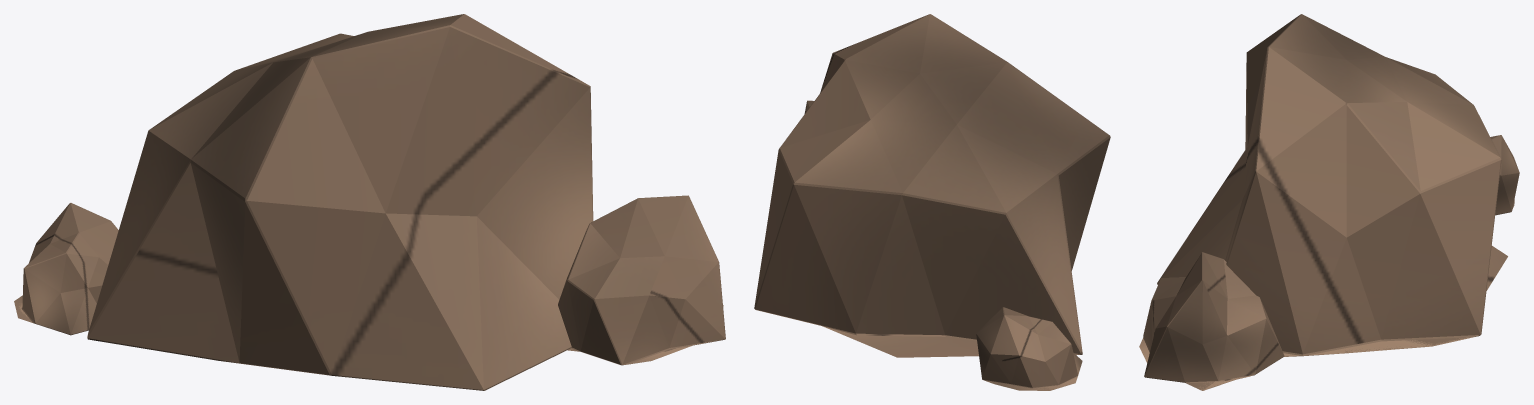
Rendered from ENV_Rock_A_v1.fbx.
The picture shows the model from 3 angles, left to right: view 1: azimuth 30°, elevation 25°; view 2: azimuth 150°, elevation 25°; view 3: azimuth 270°, elevation 25°; orthographic projection. The views are drawn at different scales.
Visible parts, largest first — view 1: GEO_Rock_A; view 2: GEO_Rock_A; view 3: GEO_Rock_A.
Boxes of the visible parts, box(x1,y1,x2,y2) form: GEO_Rock_A: box(14, 14, 725, 390); GEO_Rock_A: box(754, 14, 1110, 390); GEO_Rock_A: box(1139, 14, 1519, 390).
Bounding box in the file's own units: 203 × 110 × 151.
